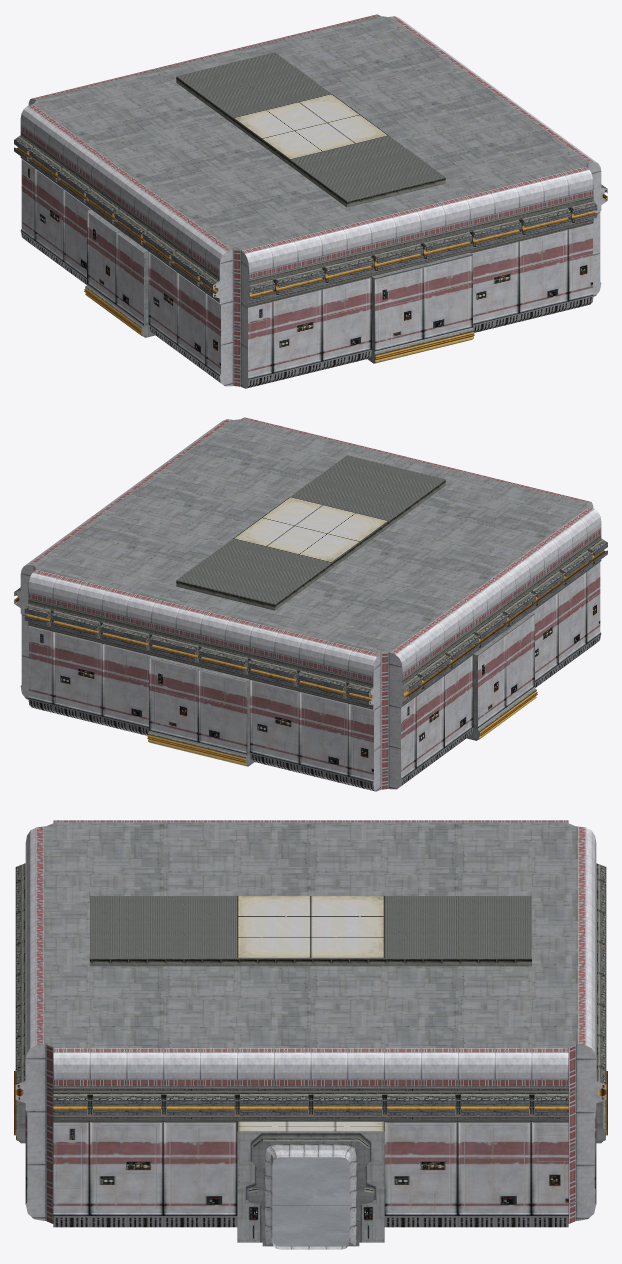
File: poi_all_rebl_bunker_s01_r6_storage2_mesh_r6.fbx
3 renders of one model, top to bottom at view 1: azimuth 30°, elevation 25°; view 2: azimuth 150°, elevation 25°; view 3: azimuth 270°, elevation 25°, orthographic. The views are drawn at different scales.
Parts seen in each view (by area): view 1: mesh_node; view 2: mesh_node; view 3: mesh_node.
Boxes of the visible parts, x1,y1,x2,y2 form: mesh_node: (14, 14, 607, 388); mesh_node: (14, 417, 607, 791); mesh_node: (14, 820, 607, 1249).
Bounding box in the file's own units: 17.07 × 5.55 × 16.14.
